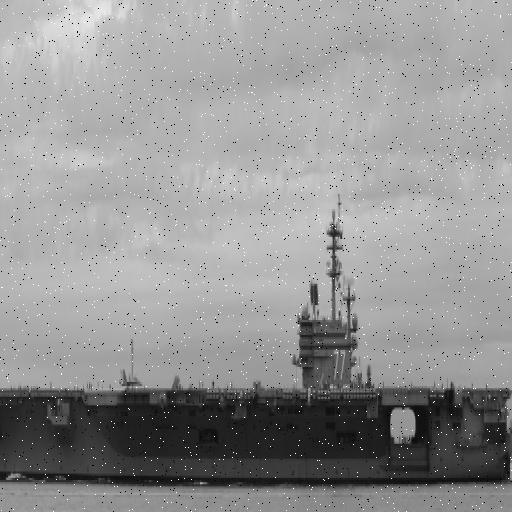Portanaves: (1, 187, 512, 490)
